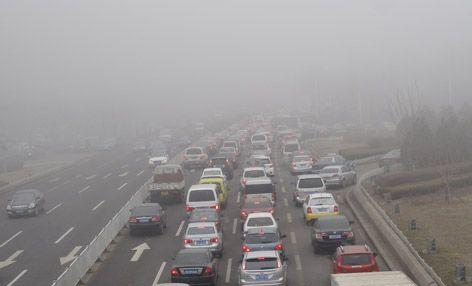bus: (148, 164, 189, 203)
car: (168, 247, 221, 283), (238, 250, 290, 285), (326, 244, 380, 277), (309, 215, 354, 254), (240, 229, 287, 262), (183, 222, 224, 255), (301, 191, 339, 226), (129, 202, 168, 235), (288, 174, 326, 206), (5, 188, 45, 218), (185, 184, 222, 215), (240, 197, 278, 225), (240, 179, 278, 207), (242, 213, 280, 240), (184, 207, 224, 232), (198, 178, 231, 208), (316, 165, 356, 189), (313, 152, 354, 175), (238, 166, 267, 191), (207, 156, 234, 177), (376, 149, 404, 169), (249, 157, 275, 178), (183, 146, 207, 168), (202, 167, 227, 188), (146, 150, 171, 168), (281, 140, 301, 162), (290, 154, 312, 173), (249, 133, 268, 153), (216, 146, 237, 164), (222, 139, 241, 158), (157, 129, 173, 144), (132, 141, 146, 154)
